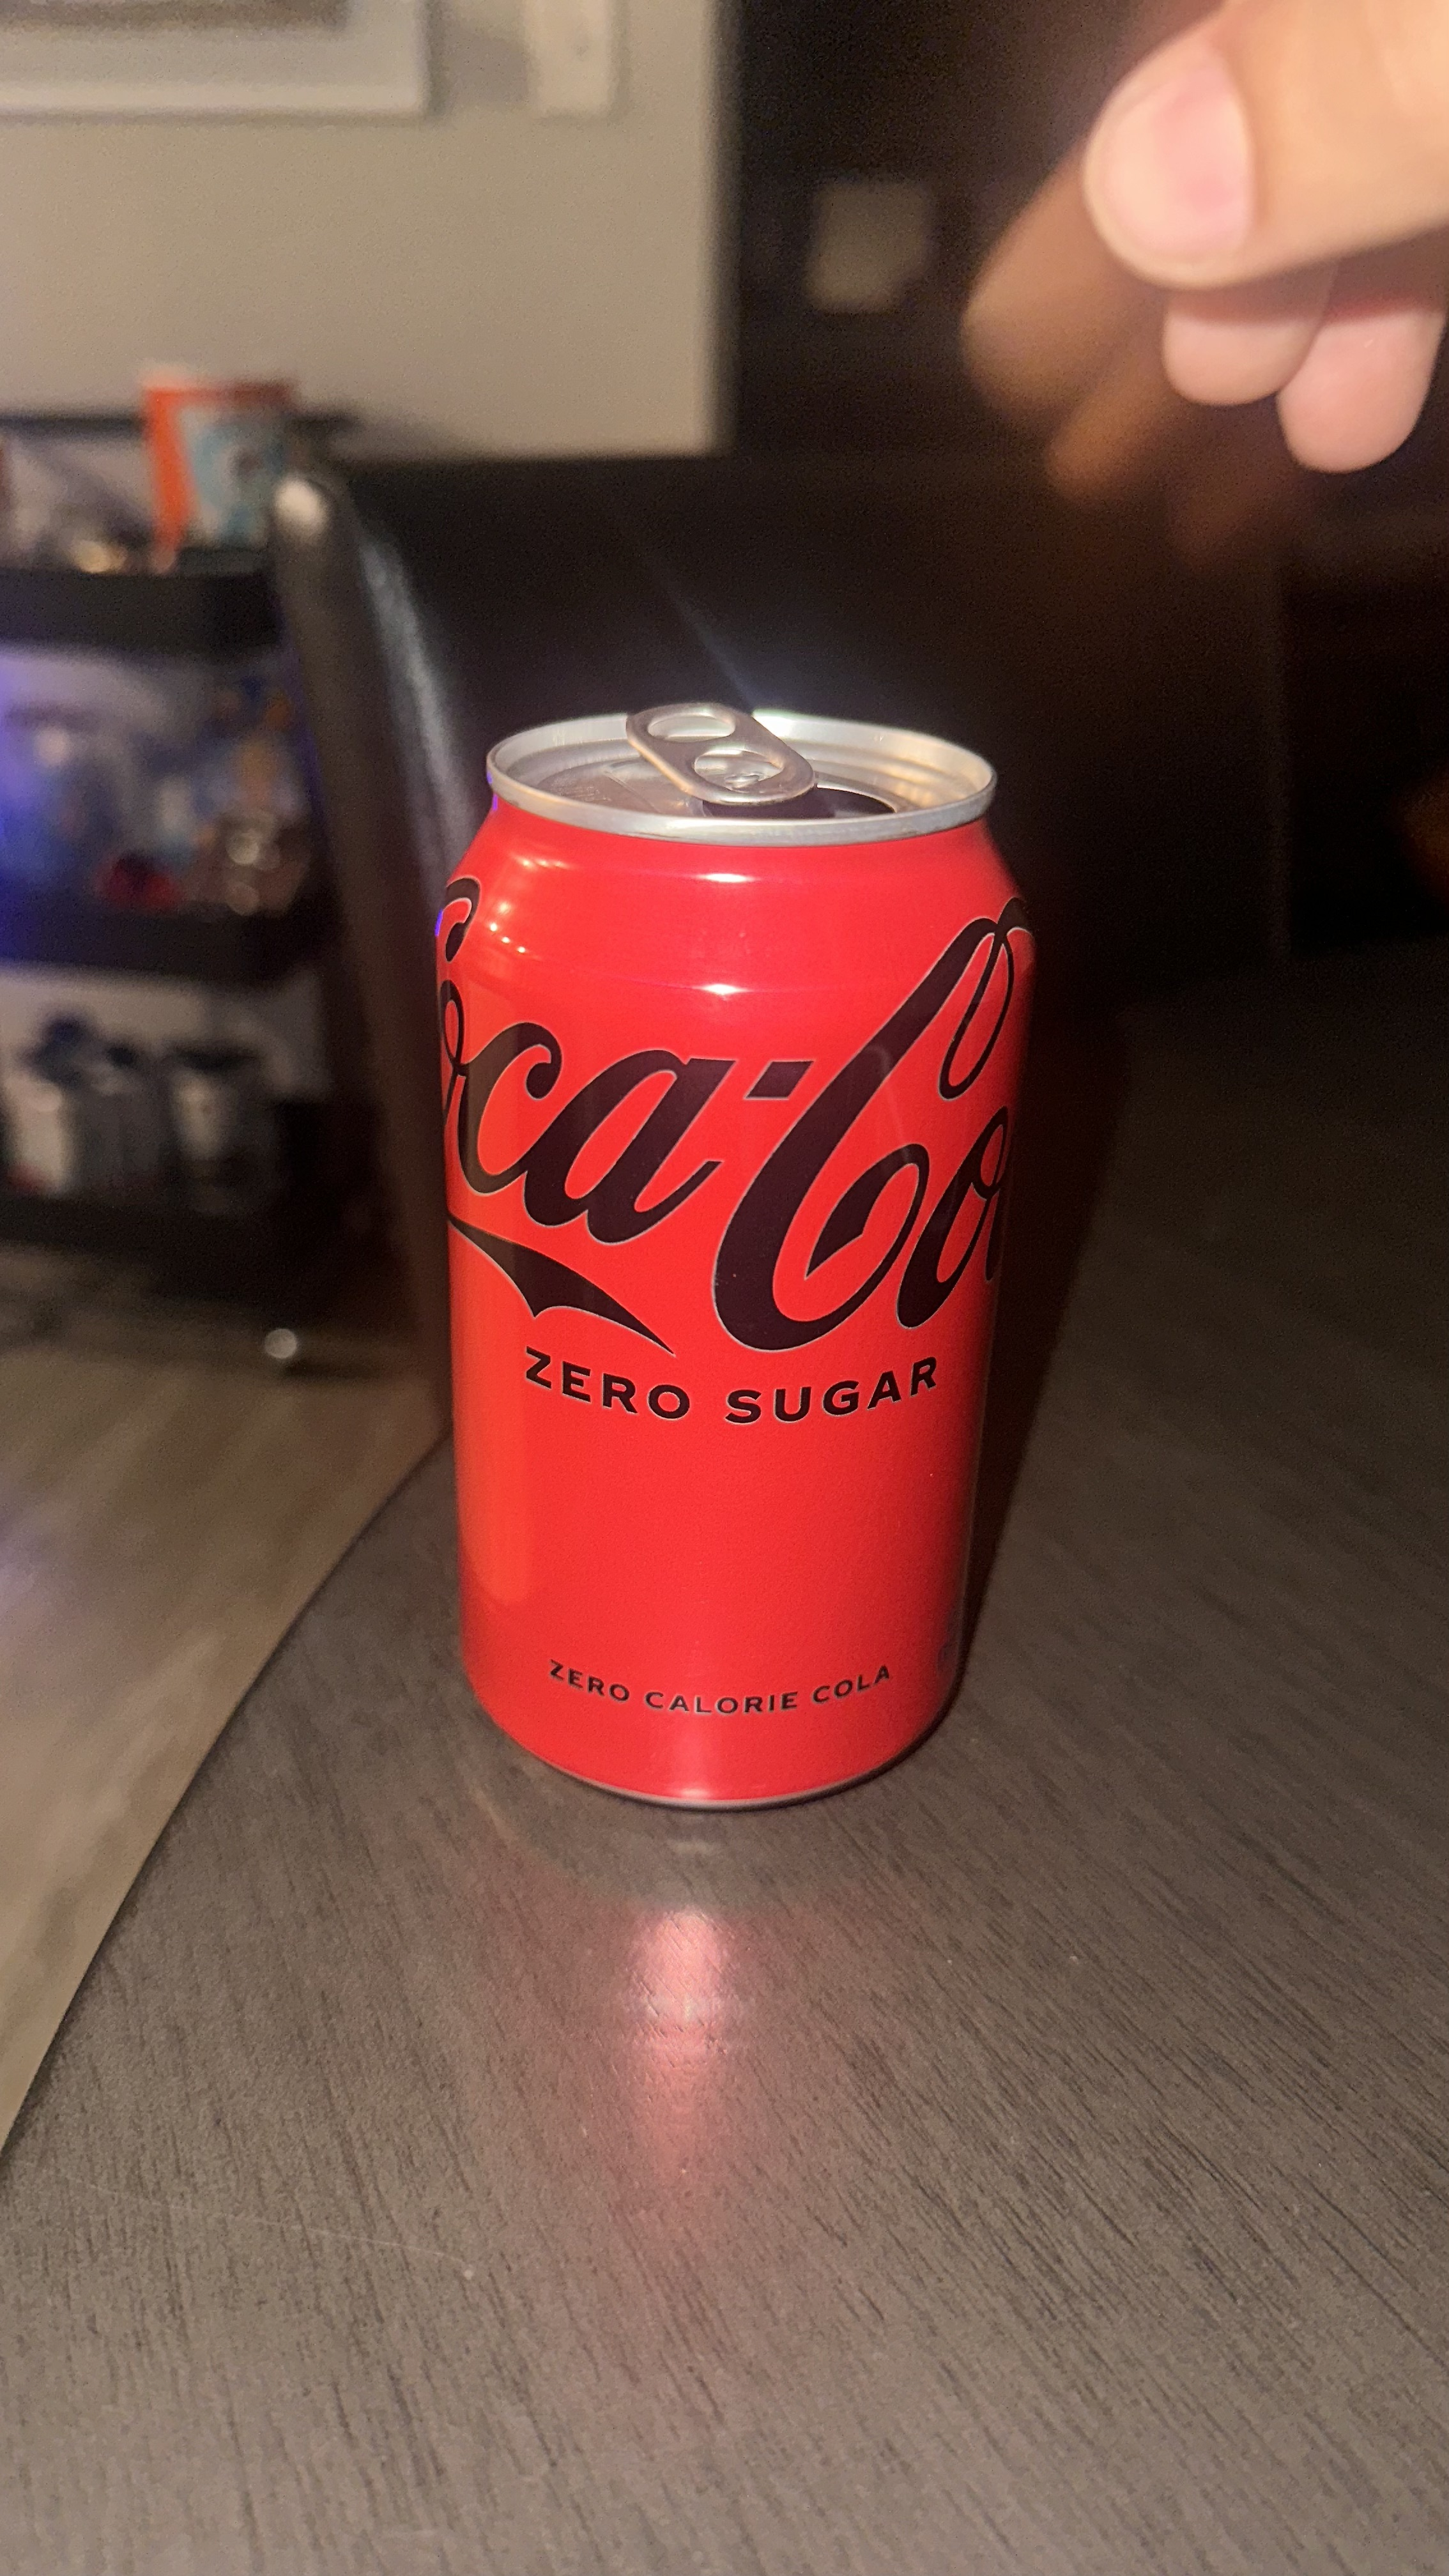Coke Zero: (384, 681, 1044, 1819)
